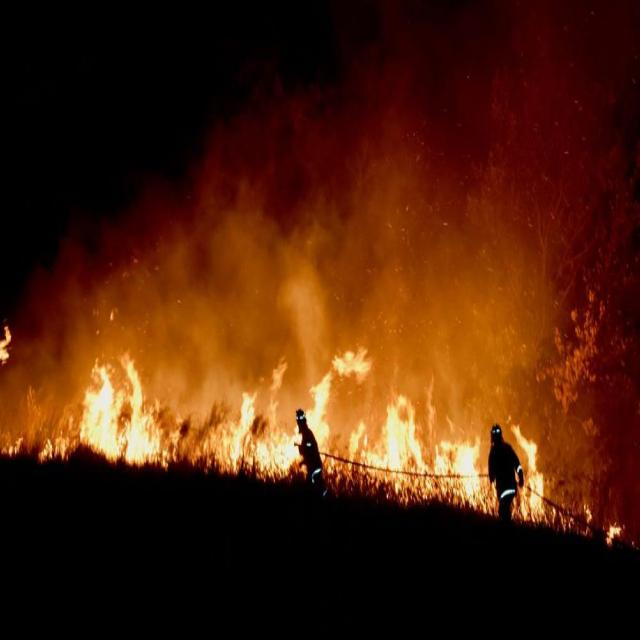fire: (13, 310, 561, 525)
